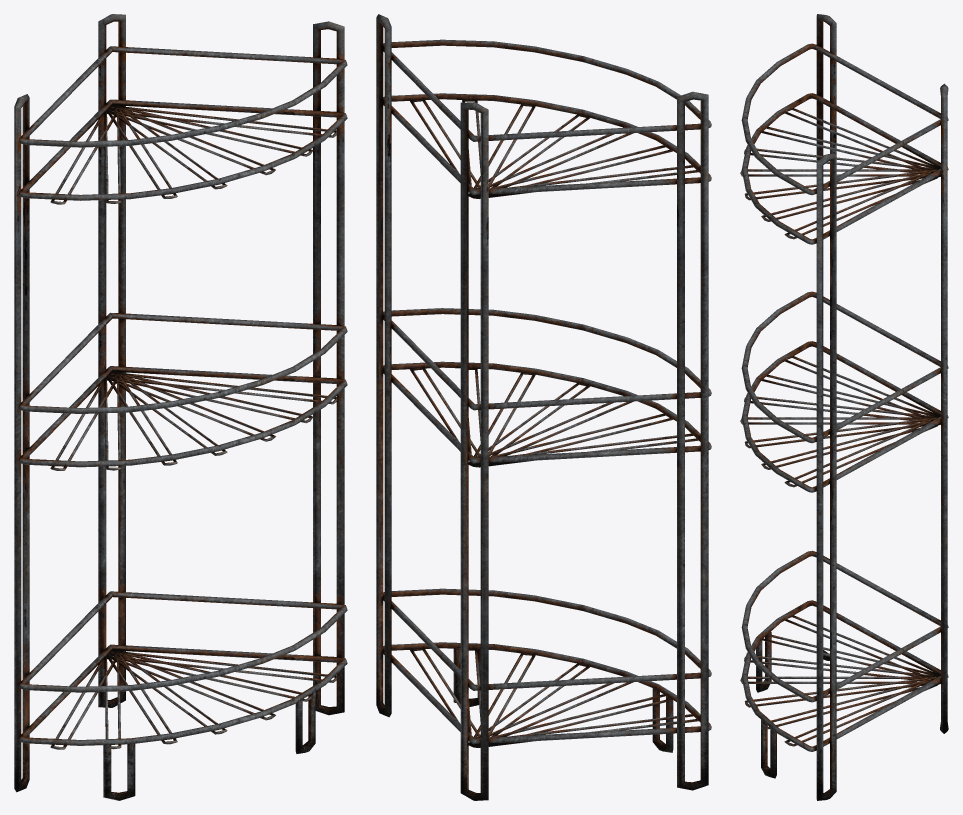
The model's file is bathRoom01.FBX.
3 renders of one model, left to right at view 1: azimuth 30°, elevation 25°; view 2: azimuth 150°, elevation 25°; view 3: azimuth 270°, elevation 25°, orthographic. The views are drawn at different scales.
Visible parts, largest first — view 1: SM_Bathroom01; view 2: SM_Bathroom01; view 3: SM_Bathroom01.
Boxes of the visible parts, x1=… form: SM_Bathroom01: x1=14, y1=14, x2=347, y2=800; SM_Bathroom01: x1=376, y1=14, x2=711, y2=800; SM_Bathroom01: x1=740, y1=14, x2=948, y2=800.
Size of the model in its own units: 44.1 by 89.31 by 26.08.
Materials: 1 (1 with a texture image).
